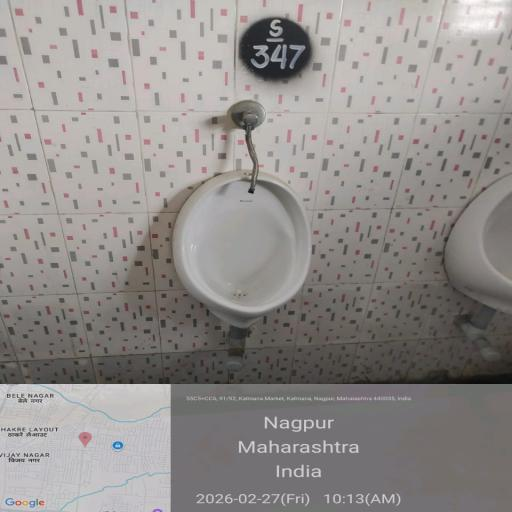clean_floor: (17, 313, 494, 512), (18, 5, 512, 167)
clean_urinal: (121, 146, 363, 337)
